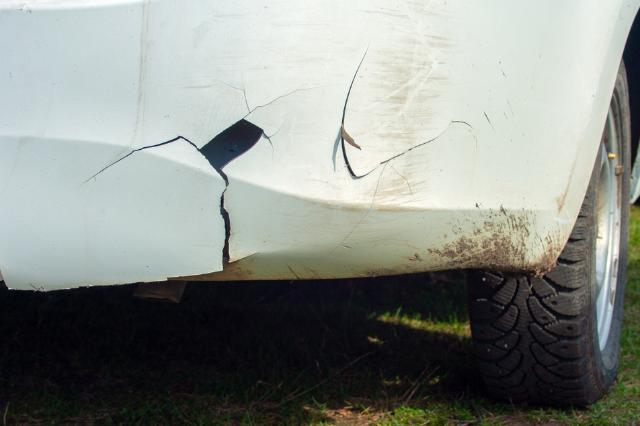Bumper: (90, 23, 554, 288)
